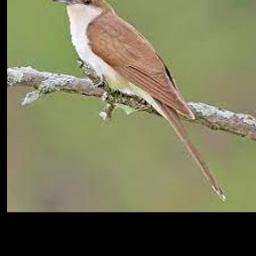Cuckoo: (51, 0, 227, 201)
